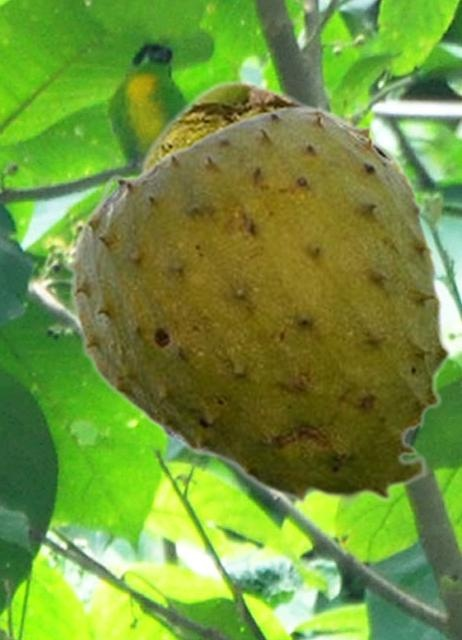guyabano: (62, 104, 452, 510), (134, 78, 408, 461)
